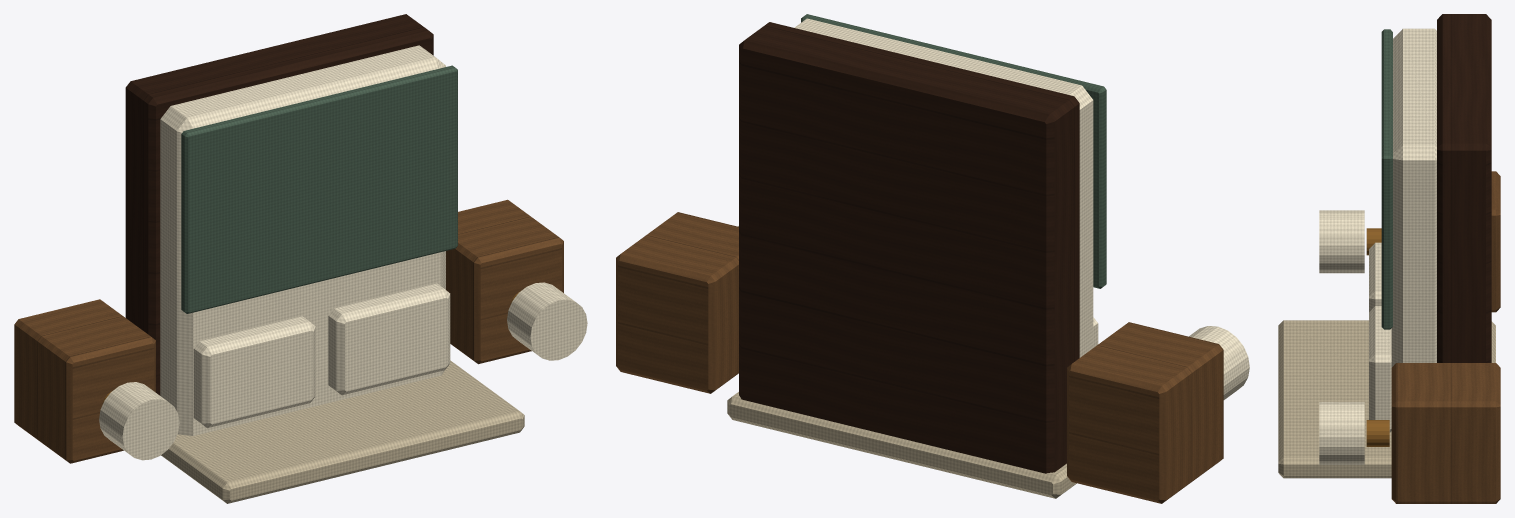
File: bed_master.obj
3 renders of one model, left to right at view 1: azimuth 30°, elevation 25°; view 2: azimuth 150°, elevation 25°; view 3: azimuth 270°, elevation 25°, orthographic. The views are drawn at different scales.
Parts seen in each view (by area): view 1: bed_master_linen, bed_master_sage, bed_master_oak, bed_master_fabric, bed_master_walnut; view 2: bed_master_walnut, bed_master_oak, bed_master_linen, bed_master_fabric, bed_master_sage; view 3: bed_master_linen, bed_master_walnut, bed_master_oak, bed_master_fabric, bed_master_sage, bed_master_brass.
Boxes of the visible parts, box(x1,y1,x2,y2) form: bed_master_linen: box(99, 45, 587, 460); bed_master_sage: box(181, 65, 457, 313); bed_master_oak: box(14, 199, 563, 463); bed_master_fabric: box(161, 360, 524, 503); bed_master_walnut: box(125, 14, 433, 395); bed_master_walnut: box(739, 22, 1079, 473); bed_master_oak: box(616, 212, 1223, 503); bed_master_linen: box(738, 18, 1249, 399); bed_master_fabric: box(727, 392, 1076, 498); bed_master_sage: box(801, 14, 1106, 288); bed_master_linen: box(1319, 28, 1436, 464); bed_master_walnut: box(1437, 14, 1491, 362); bed_master_oak: box(1391, 171, 1500, 503); bed_master_fabric: box(1278, 320, 1495, 478); bed_master_sage: box(1381, 29, 1392, 329); bed_master_brass: box(1366, 228, 1389, 446).
Size of the model in its own units: 122 by 81 by 49.
Materials: 7 (7 with a texture image).
